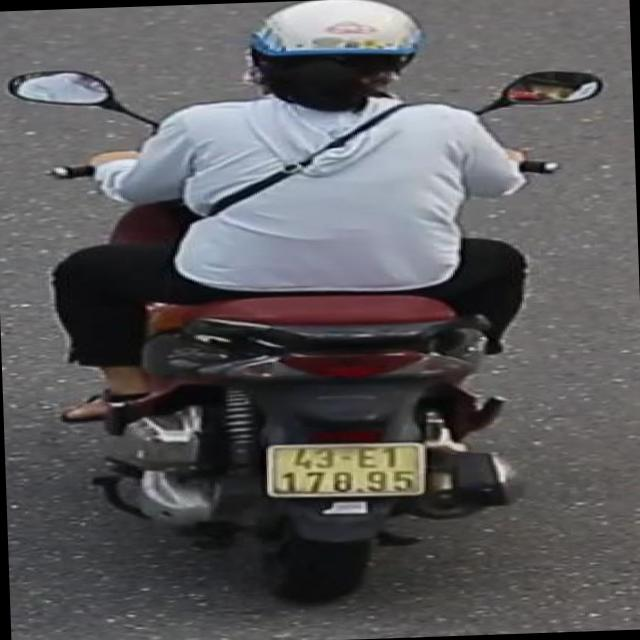LP: (259, 436, 436, 506)
helmet: (246, 0, 430, 81)
